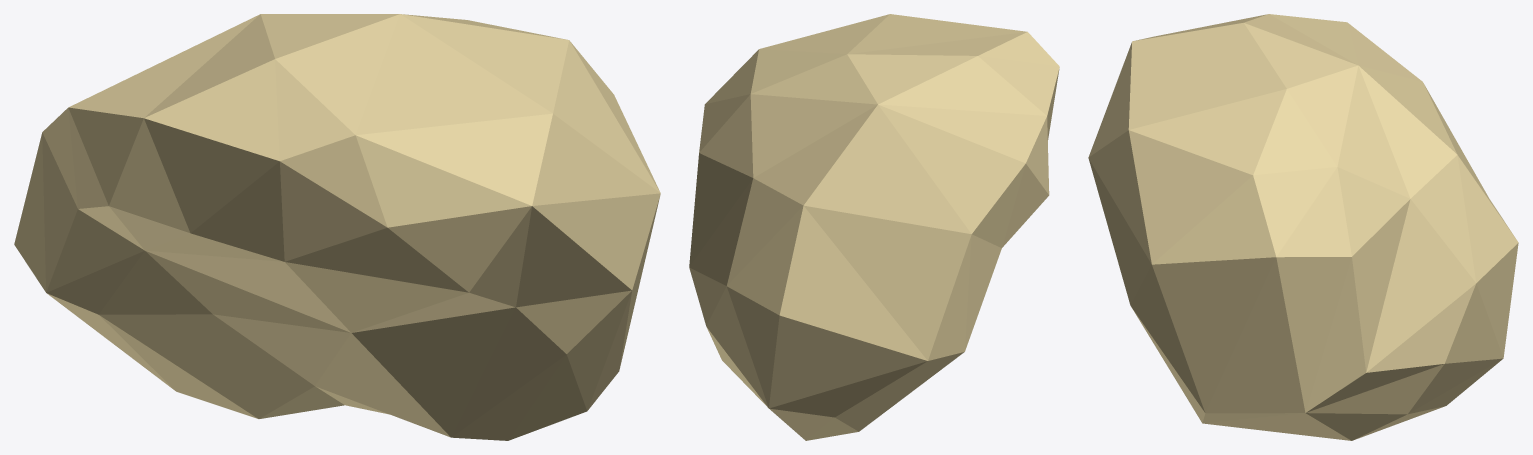
File: Rock (18).fbx
3 renders of one model, left to right at view 1: azimuth 30°, elevation 25°; view 2: azimuth 150°, elevation 25°; view 3: azimuth 270°, elevation 25°, orthographic. The views are drawn at different scales.
Visible parts, largest first — view 1: Asteroid17; view 2: Asteroid17; view 3: Asteroid17.
Part boxes in pixels (x1,y1,x2,y2): Asteroid17: (14,14,660,440); Asteroid17: (689,14,1059,440); Asteroid17: (1088,14,1518,440).
Bounding box in the file's own units: 206 × 184 × 208.
